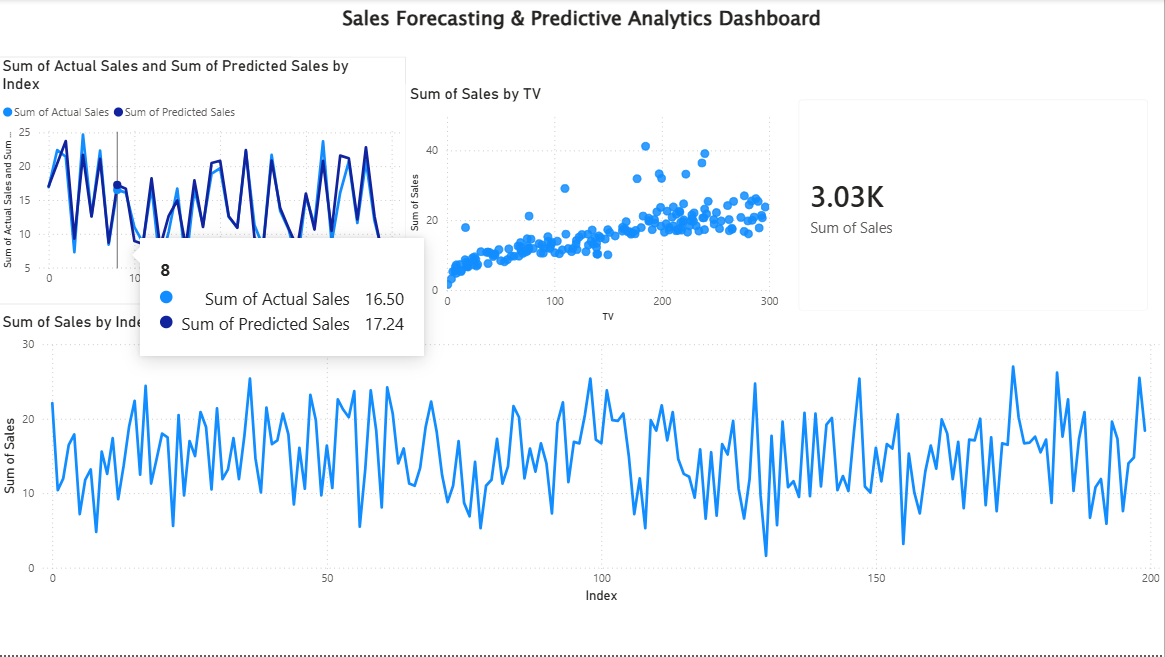

This screenshot's page, from the dashboard's own definition file:
{"tool":"powerbi","page":{"name":"Page 1","canvas":[1280,720],"ordinal":0},"visuals":[{"type":"lineChart","fields":{"Category":["sales_predictions.Index"],"Y":["Sum(sales_predictions.Actual Sales)","Sum(sales_predictions.Predicted Sales)"]},"box":[0,63.1,447.3,271.7],"z":0},{"type":"lineChart","fields":{"Category":["advertising.Index"],"Y":["Sum(advertising.Sales)"]},"box":[0,344.4,1280.3,323.8],"z":1},{"type":"scatterChart","fields":{"X":["advertising.TV"],"Y":["Sum(advertising.Sales)"]},"box":[447.3,93.3,414.4,266.2],"z":2},{"type":"cardVisual","fields":{"Data":["Sum(advertising.Sales)"]},"box":[861.8,93.3,418.5,266.2],"z":3},{"type":"textbox","box":[322.5,0,636.7,63.1],"z":4}]}

Visuals, with their boxes in screenshot pixels (x1, y1, x2, y2), scaled from the page's 1280x720 canvas onto the 1165x657 screenshot:
lineChart - sales_predictions.Index x Sum(sales_predictions.Actual Sales): (x1=0, y1=58, x2=407, y2=306)
lineChart - advertising.Index x Sum(advertising.Sales): (x1=0, y1=314, x2=1164, y2=610)
scatterChart - advertising.TV x Sum(advertising.Sales): (x1=407, y1=85, x2=784, y2=328)
cardVisual - Sum(advertising.Sales): (x1=784, y1=85, x2=1164, y2=328)
textbox: (x1=294, y1=0, x2=873, y2=58)
